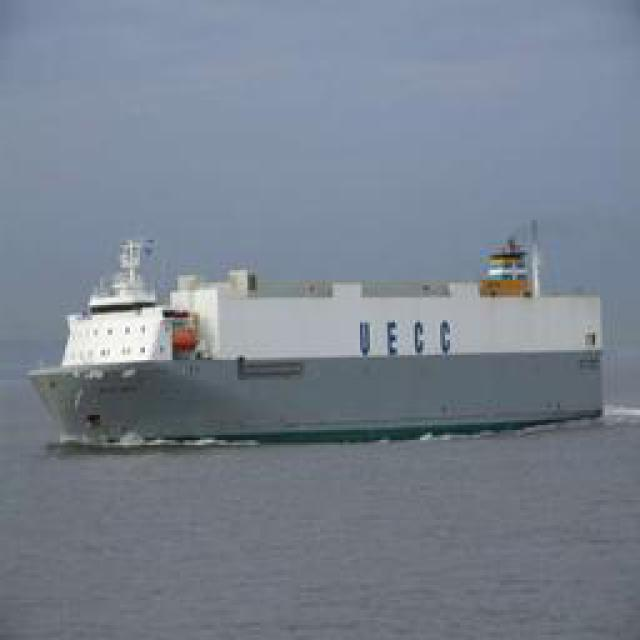Ship: (26, 230, 616, 450)
